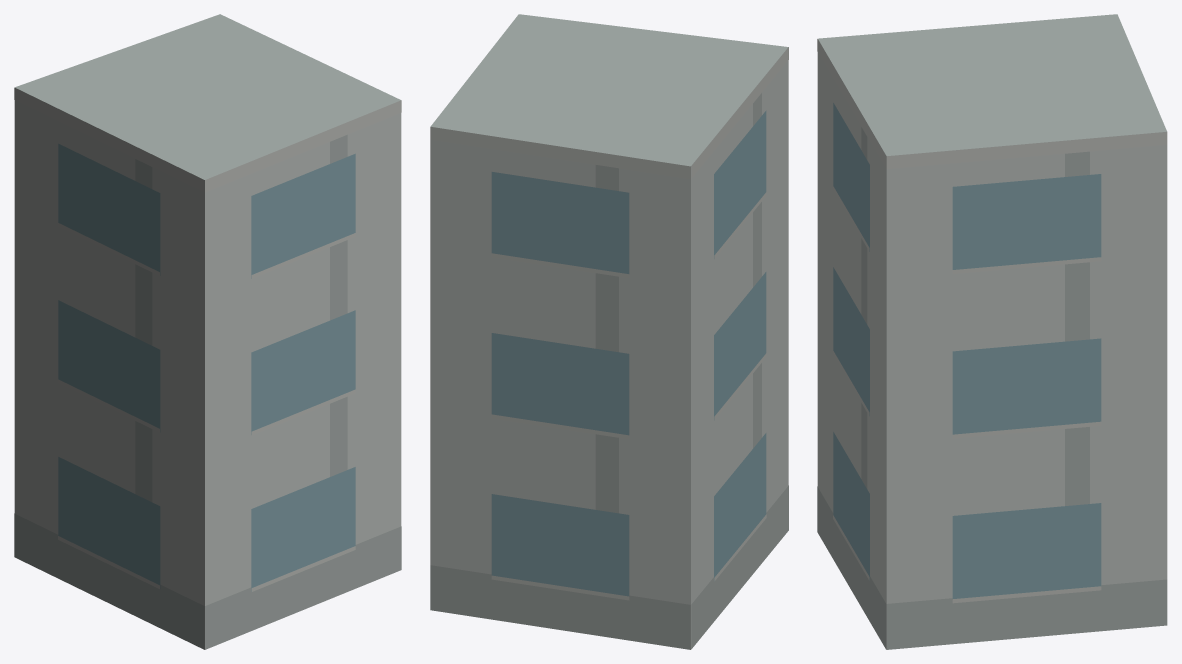
File: survey-upis-32870119.glb
The picture shows the model from 3 angles, left to right: view 1: azimuth 30°, elevation 25°; view 2: azimuth 150°, elevation 25°; view 3: azimuth 270°, elevation 25°; orthographic projection. The views are drawn at different scales.
Visible parts, largest first — view 1: survey-upis-32870119.tmp; view 2: survey-upis-32870119.tmp; view 3: survey-upis-32870119.tmp.
Boxes of the visible parts, <box> form: survey-upis-32870119.tmp: <box>14,14,401,649</box>; survey-upis-32870119.tmp: <box>430,14,788,649</box>; survey-upis-32870119.tmp: <box>817,14,1167,649</box>.
Bounding box in the file's own units: 5.66 × 9.15 × 5.88.
